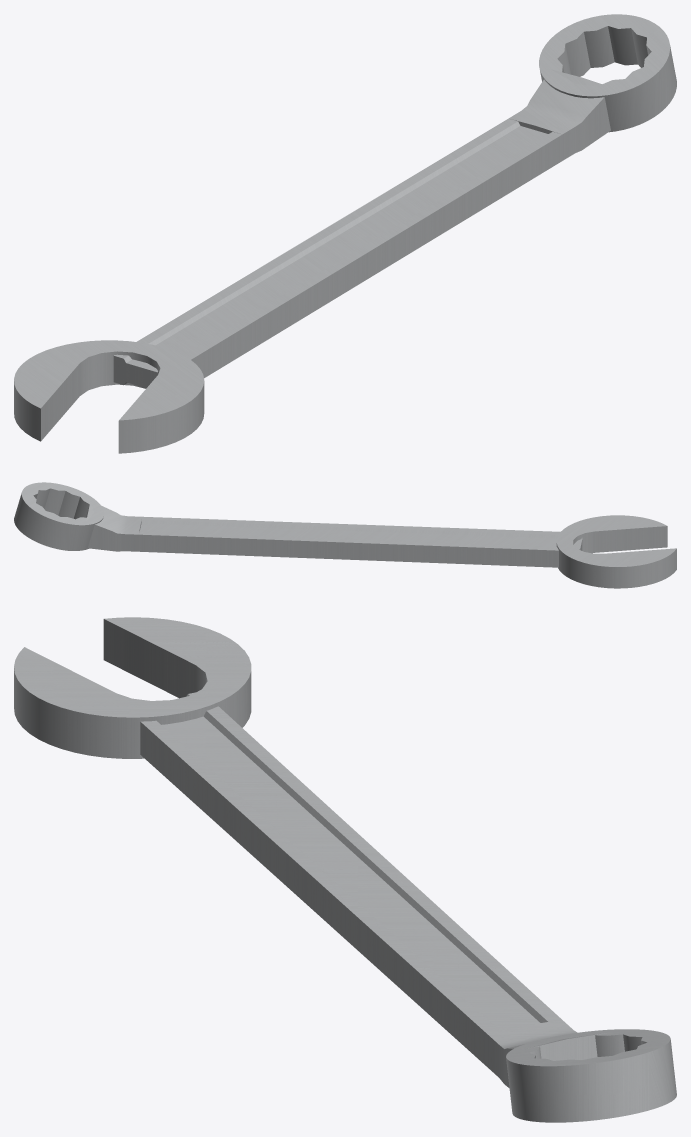
File: combination-spanner-17-mm-2c14abda.glb
The picture shows the model from 3 angles, top to bottom: view 1: azimuth 30°, elevation 25°; view 2: azimuth 150°, elevation 25°; view 3: azimuth 270°, elevation 25°; orthographic projection. The views are drawn at different scales.
Visible parts, largest first — view 1: Combination spanner 17 mm.001; view 2: Combination spanner 17 mm.001; view 3: Combination spanner 17 mm.001.
Part boxes in pixels (bbox=[...]): Combination spanner 17 mm.001: bbox=[14, 14, 676, 453]; Combination spanner 17 mm.001: bbox=[14, 482, 676, 588]; Combination spanner 17 mm.001: bbox=[14, 617, 676, 1122].
Size of the model in its own units: 0.1953 by 0.0169 by 0.1088.
Materials: 1 (1 with a texture image).
